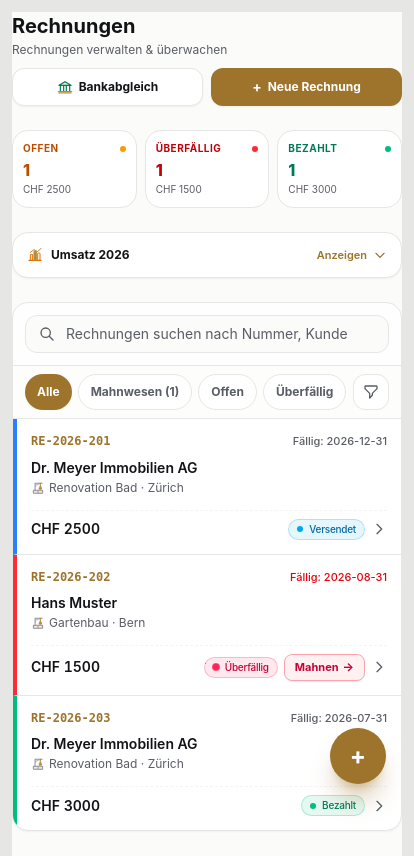
Test: RechnungenView Responsive & Mobile UX › renders mobile 3-column KPI tiles and filters when clicked
Expected: the text "RE-2026-201" is shown, [31,433,110,449]
Click on mobile KPI button "Überfällig"
Click the button "Überfällig 1 CHF 1500" at (207,169), box [145,130,269,208]
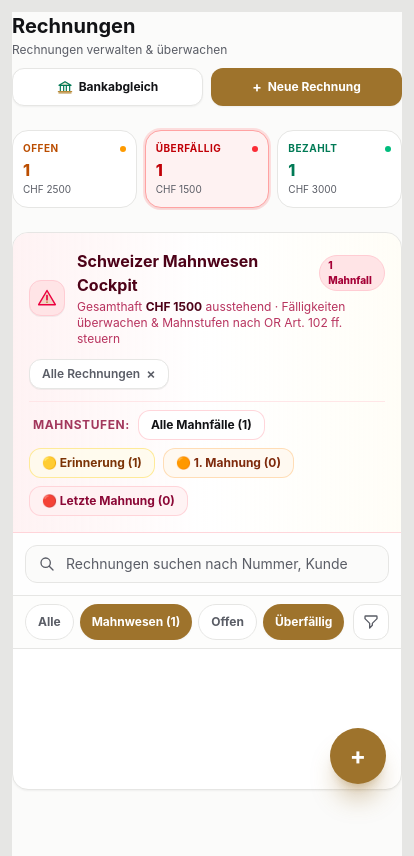
Result: the text "RE-2026-201" is gone
